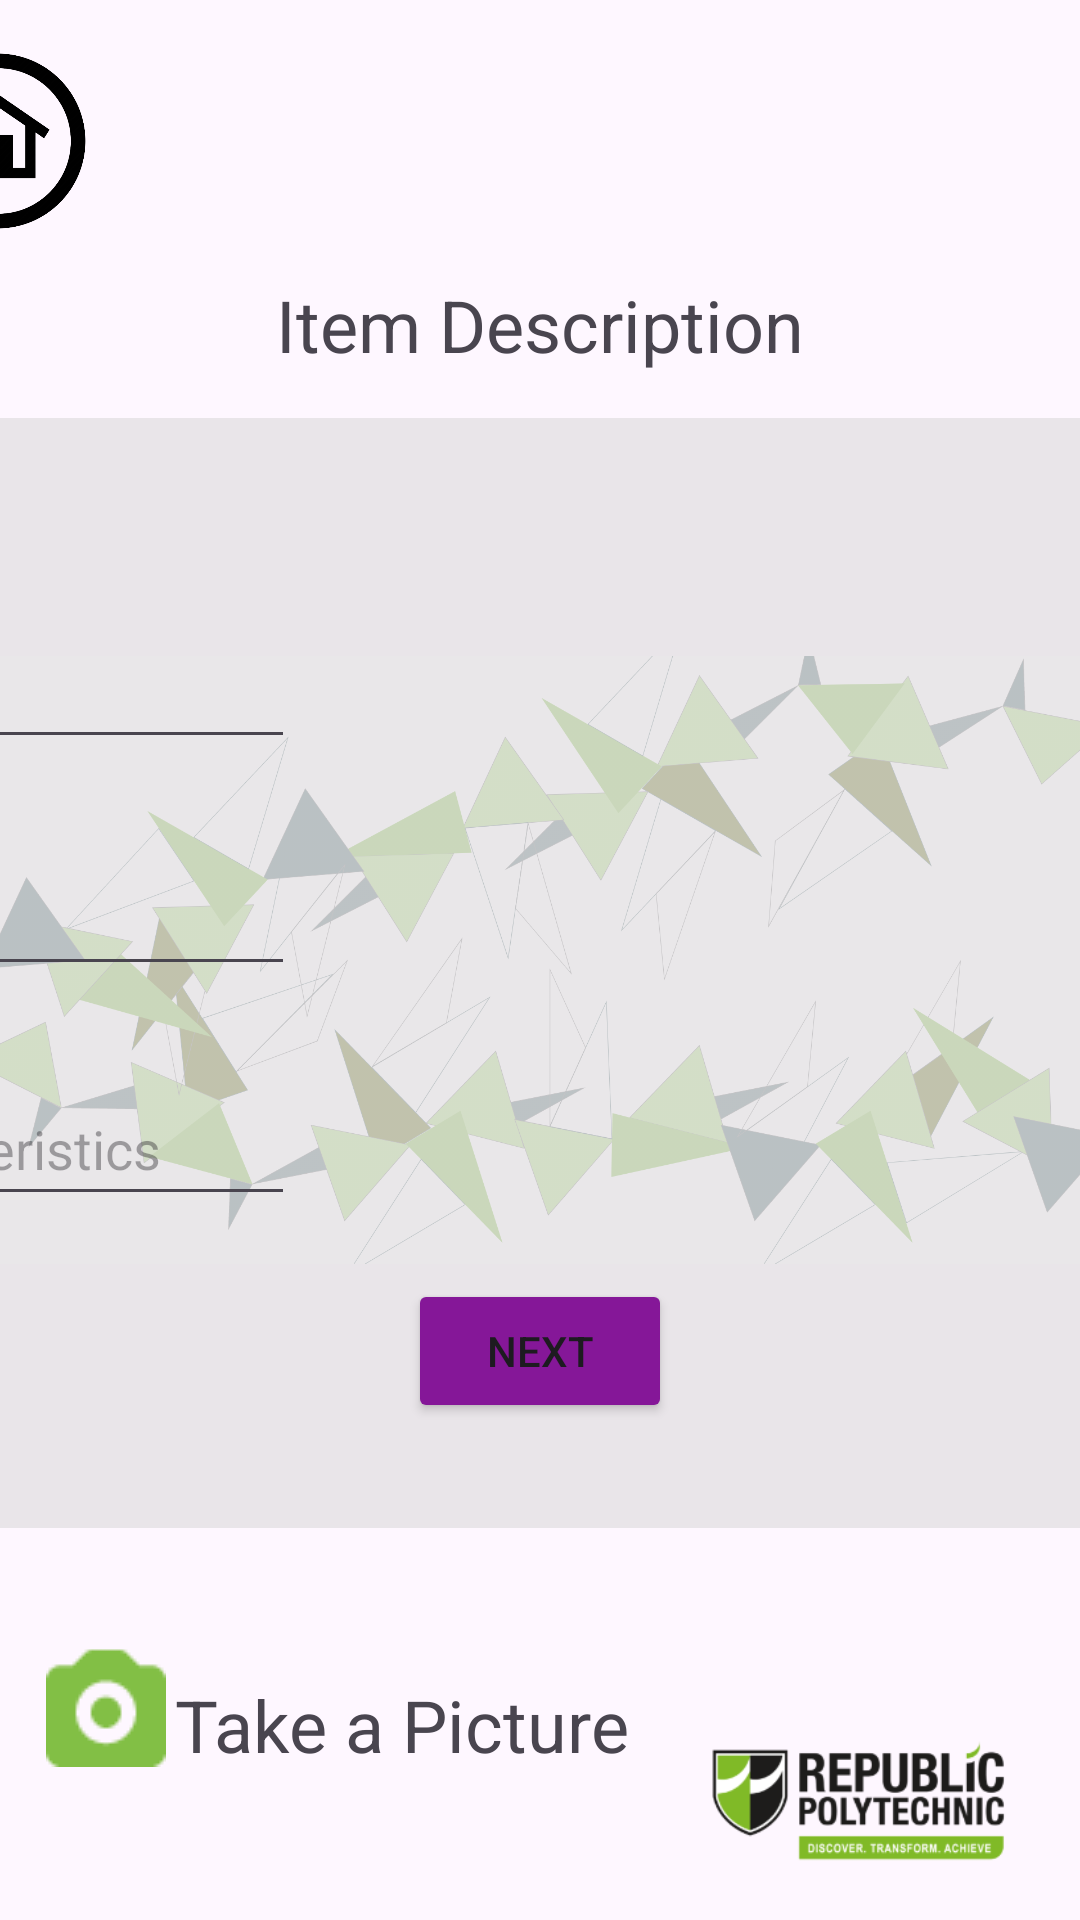

Named icons in this screenshot (1080x1920) and their centers, [x,y]:
camera: [106,1708]
